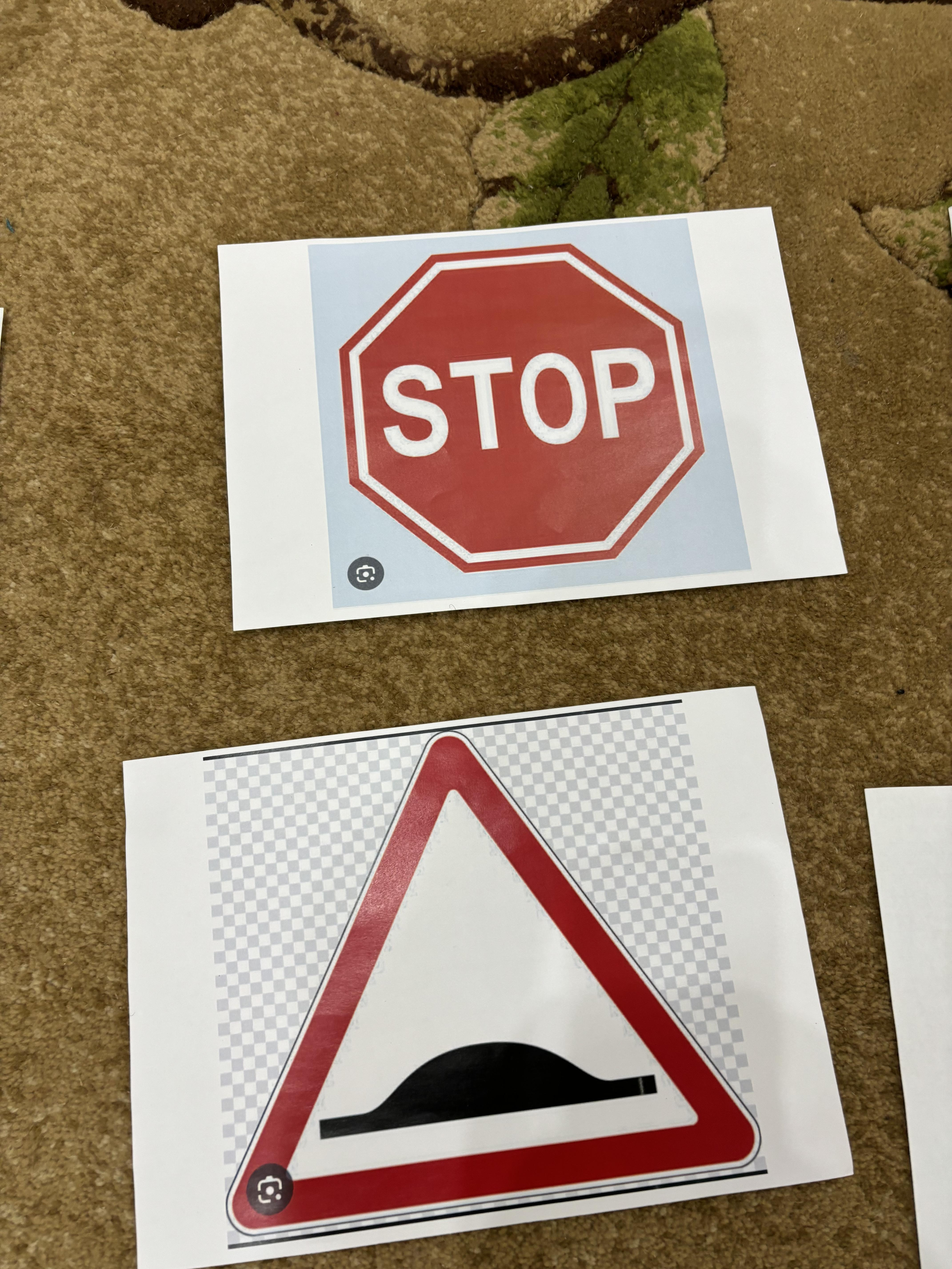Hump: (198, 727, 763, 1244)
Stop: (332, 240, 728, 580)
